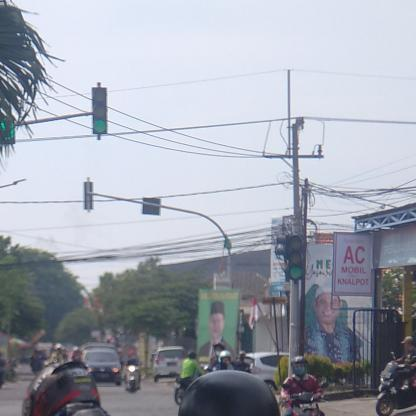green: (91, 87, 109, 135), (287, 234, 304, 281)
